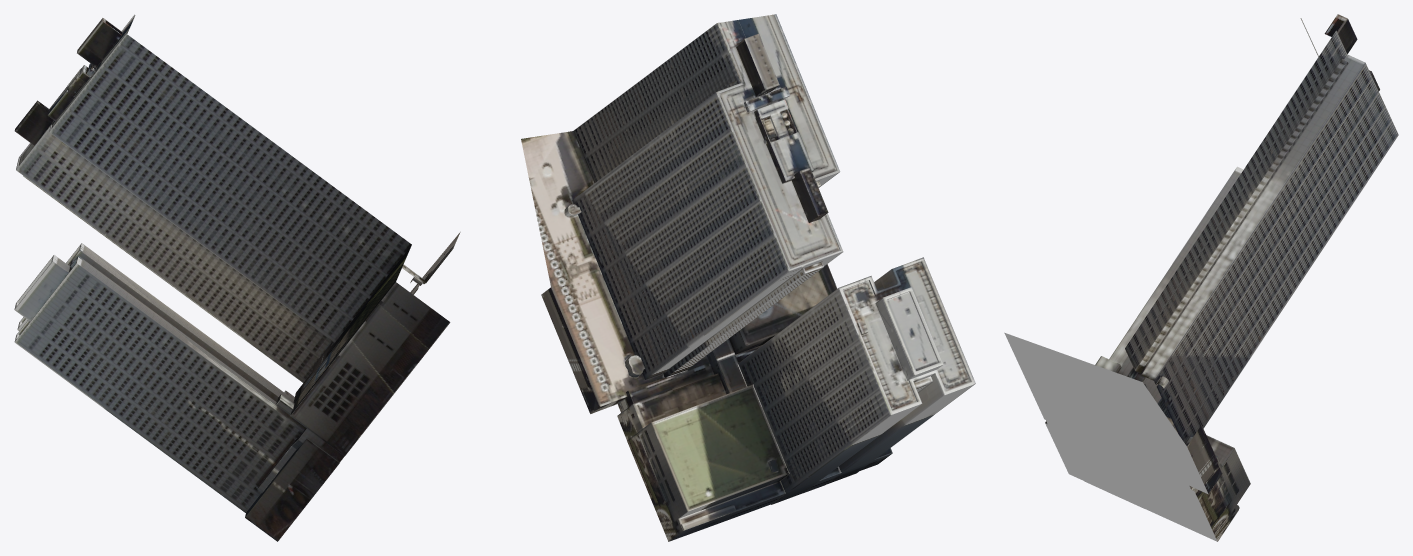
Rendered from 39547_bldg_Building.glb.
3 views of the same model, side by side, from view 1: azimuth 30°, elevation 25°; view 2: azimuth 150°, elevation 25°; view 3: azimuth 270°, elevation 25° (orthographic). The views are drawn at different scales.
Bounding box in the file's own units: 187 × 201 × 154.
3 materials, 2 textured.
